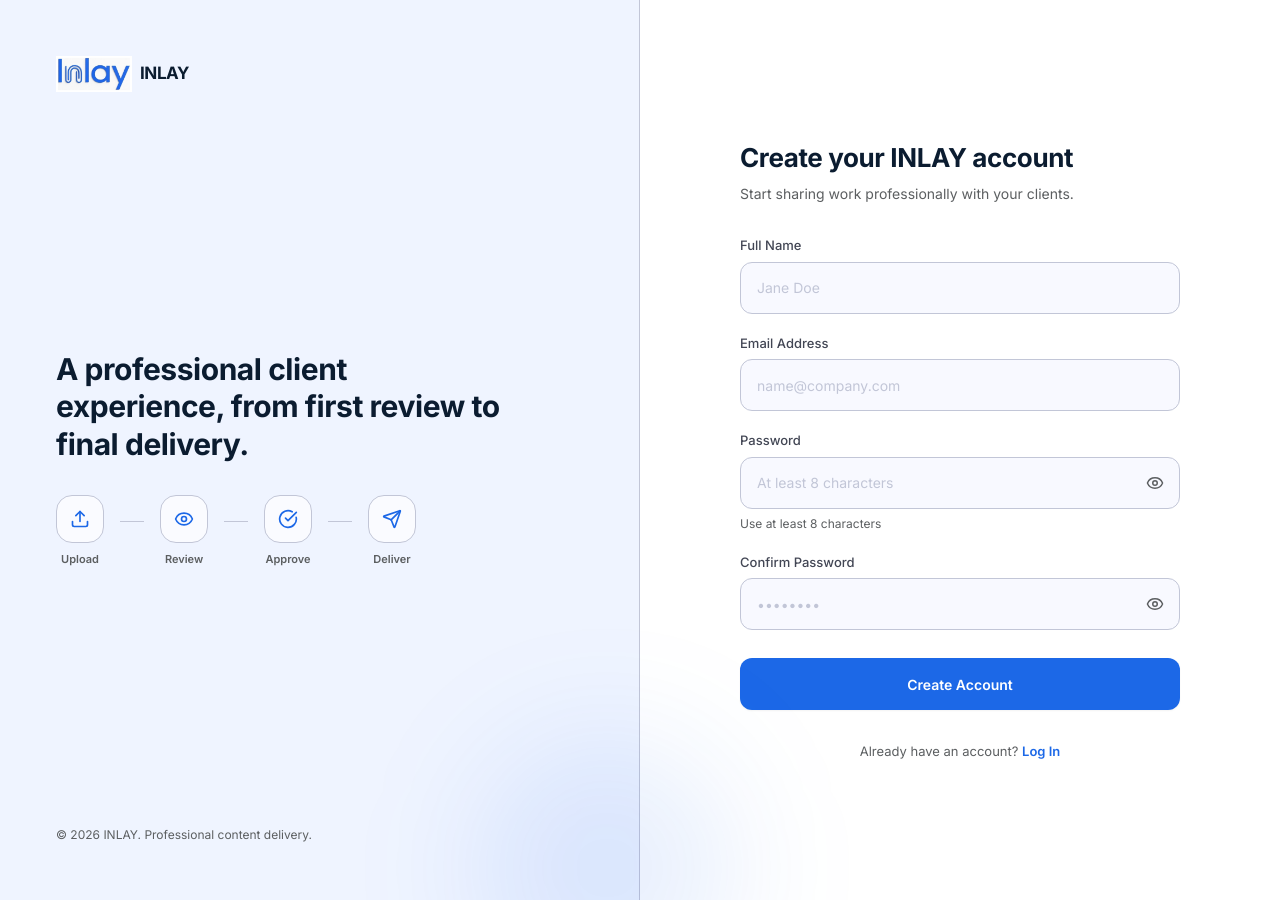
Test: RegisterForm › shows the duplicate-account error, and the returned state never carries a password value to repopulate the field with
Type "Arjun Raj" into the field labelled "Full Name" at (960,288), box [740,262,1180,314]
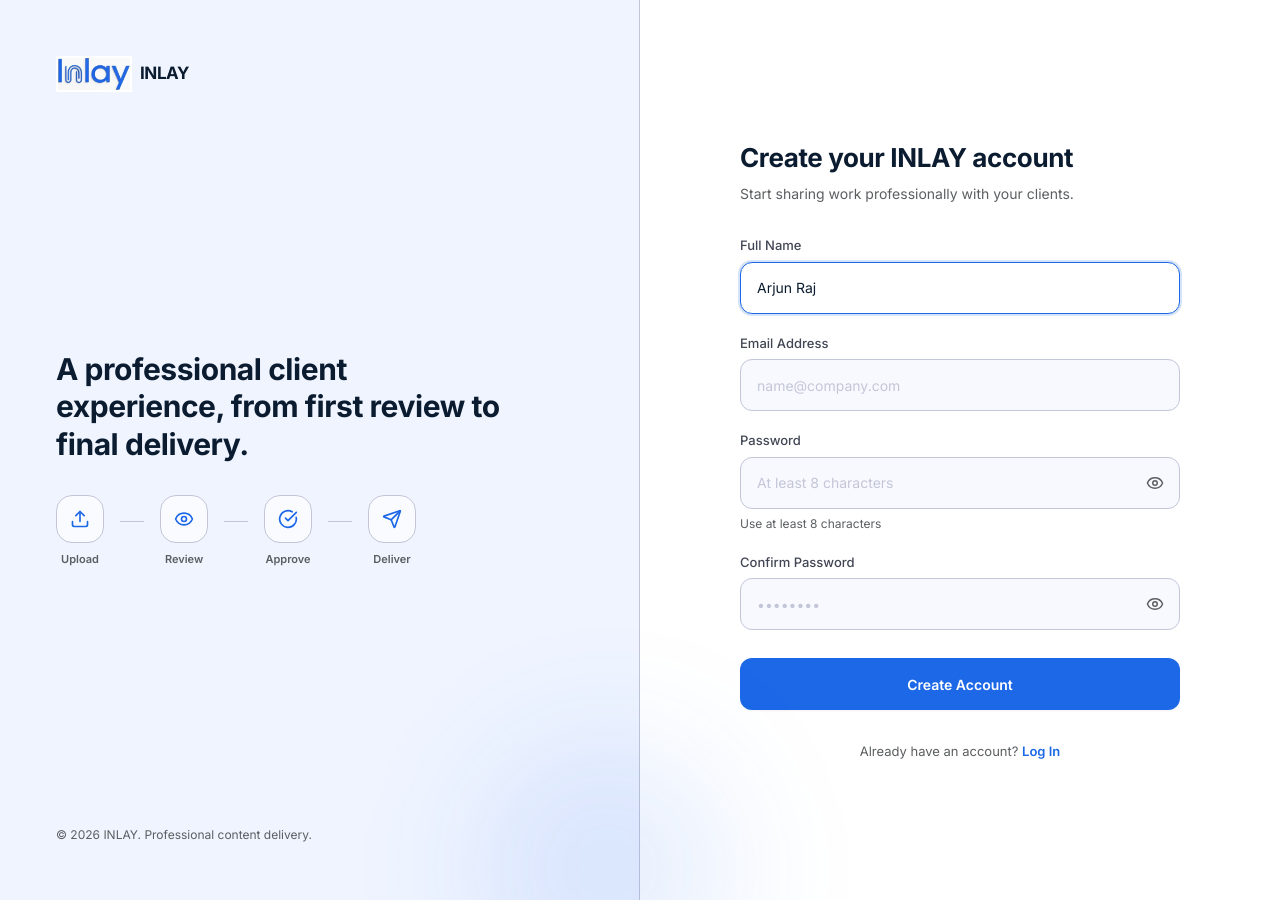
Type "arjun@example.com" into the field labelled "Email Address" at (960,385), box [740,359,1180,411]
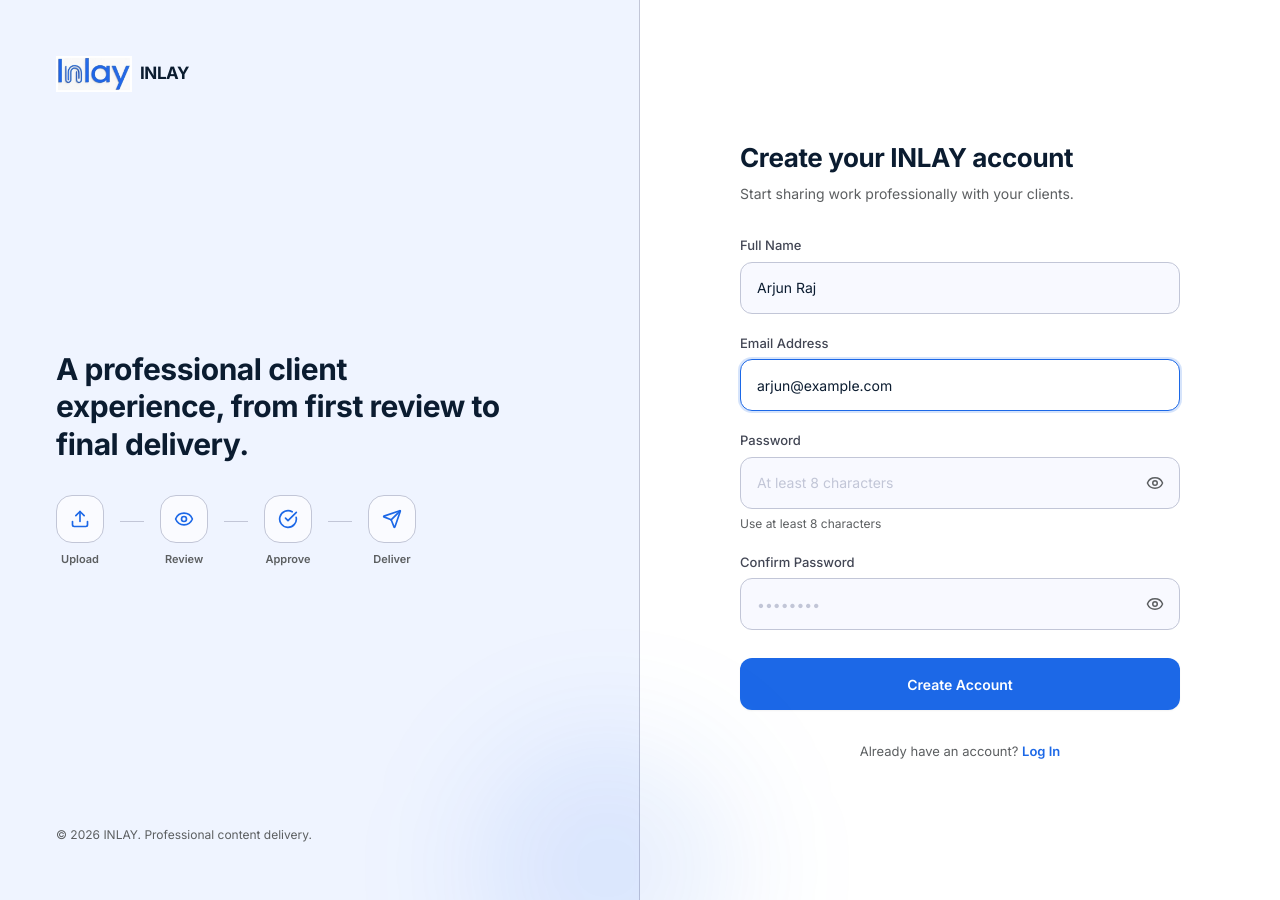
Type "Demo@12345" into the password field labelled "Password" at (960,483), box [740,457,1180,509]
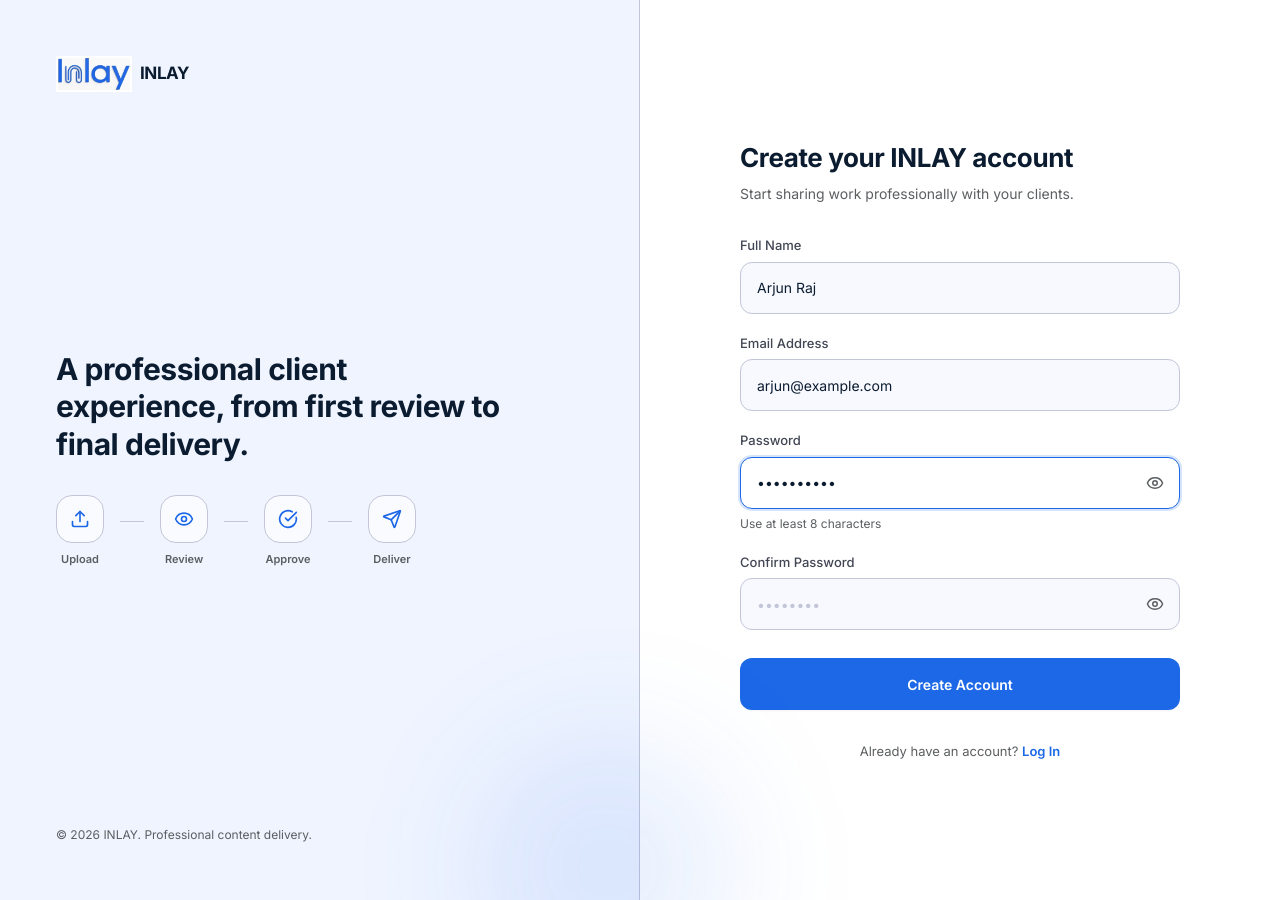
Click the button "Create Account" at (960,684), box [740,658,1180,710]
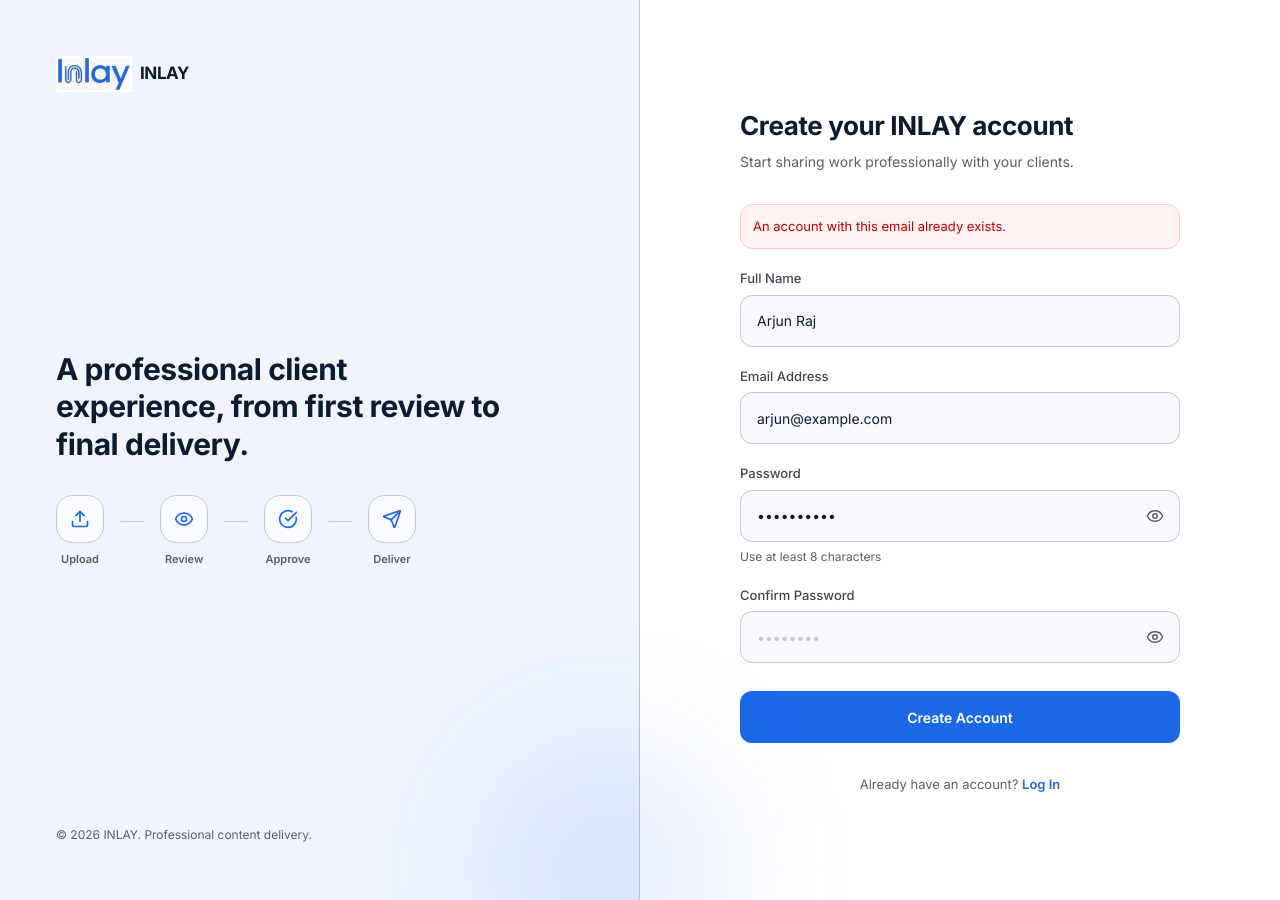
Check: the message shows "already exists", box [753,218,1006,234]
